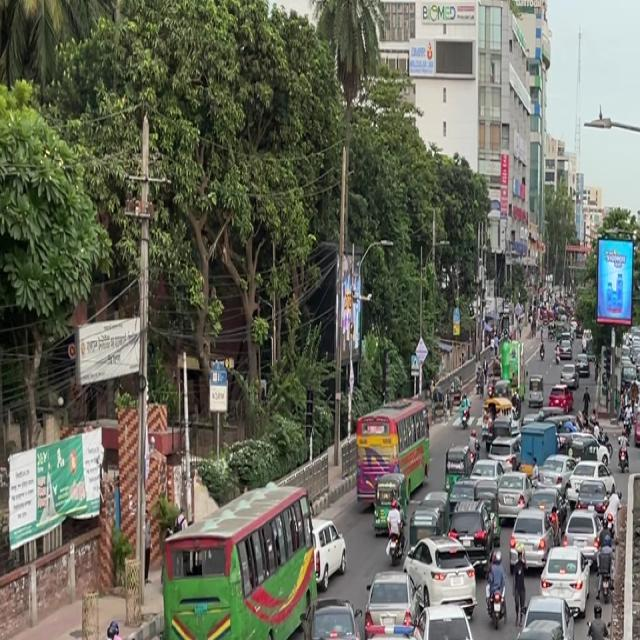bus: (151, 477, 315, 640), (351, 395, 433, 515)
car: (425, 534, 479, 622), (540, 539, 592, 621), (308, 510, 352, 590), (443, 497, 494, 562), (508, 505, 552, 579), (414, 593, 482, 640), (324, 617, 442, 640), (566, 501, 601, 565), (493, 462, 530, 522), (568, 468, 606, 520)
motorbike: (485, 555, 509, 631), (593, 549, 614, 613), (594, 512, 614, 569), (604, 496, 620, 550), (584, 619, 612, 640)
rickshaw: (506, 613, 574, 640), (147, 633, 219, 640)
